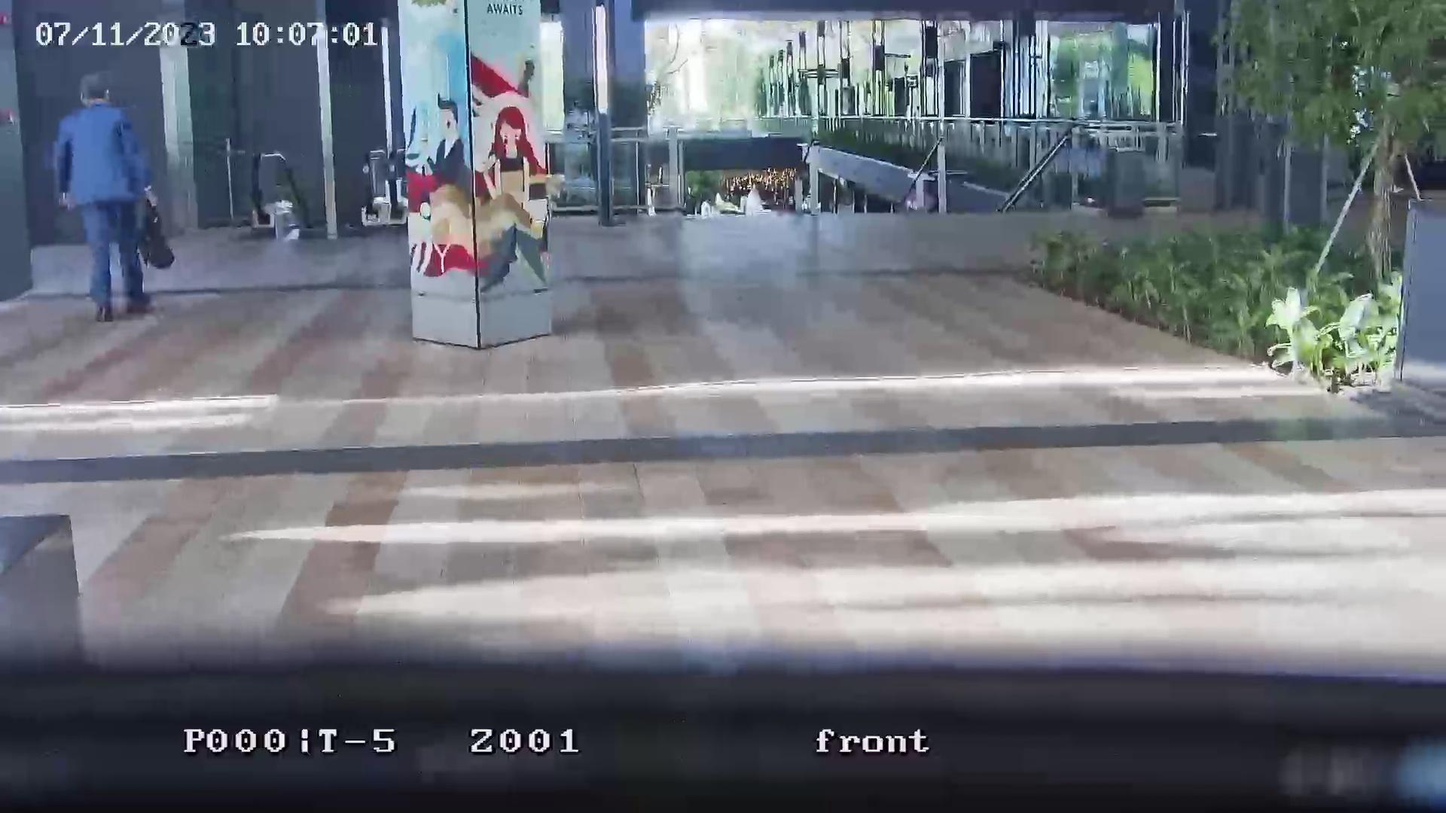person: (54, 69, 160, 322)
